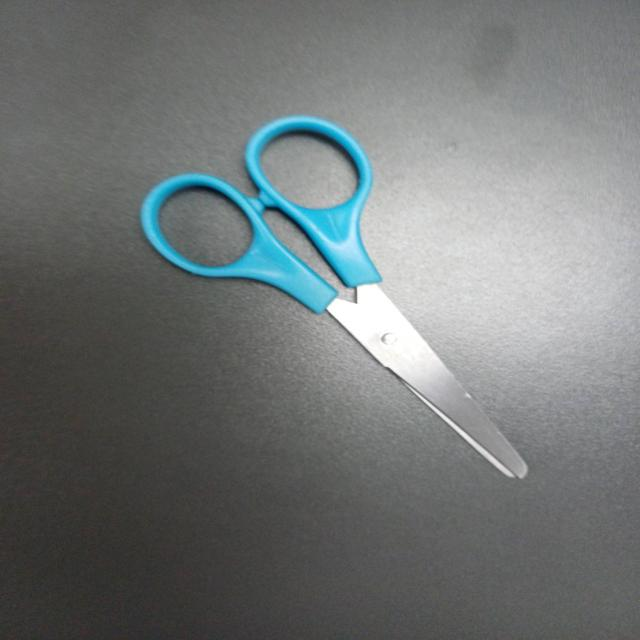scissors: (131, 106, 540, 491)
